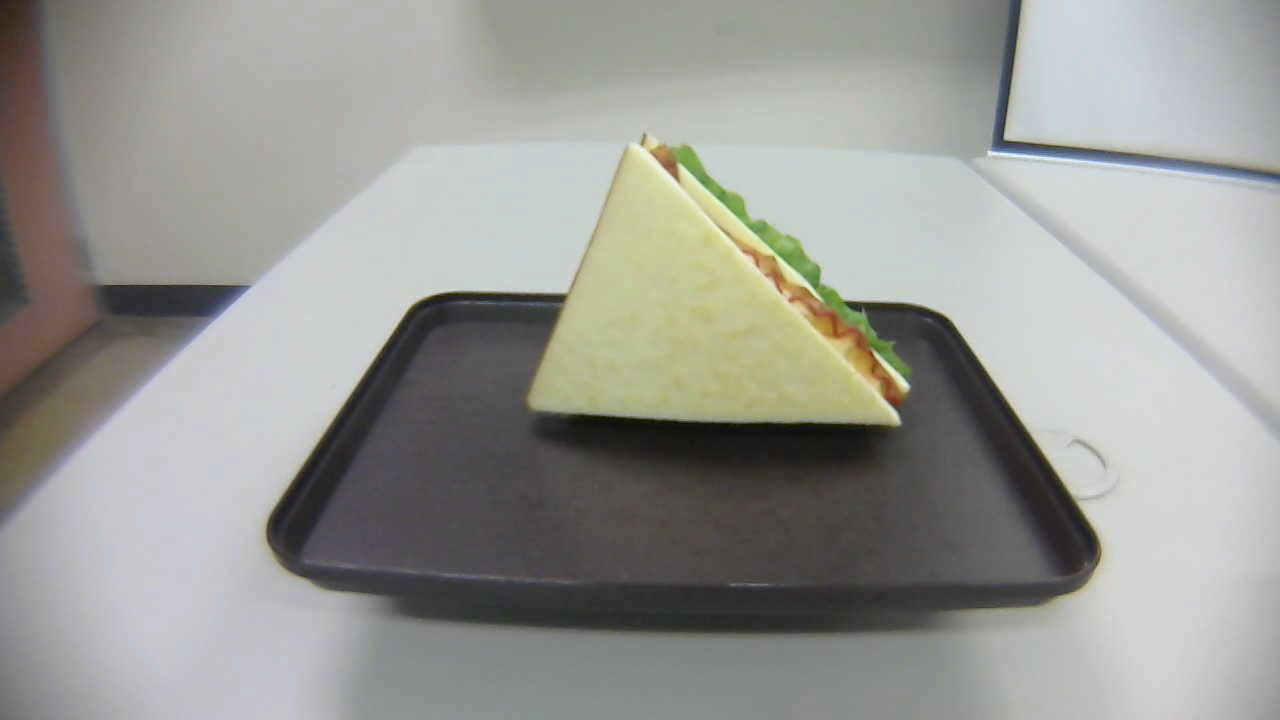sandwich: (526, 135, 915, 430)
